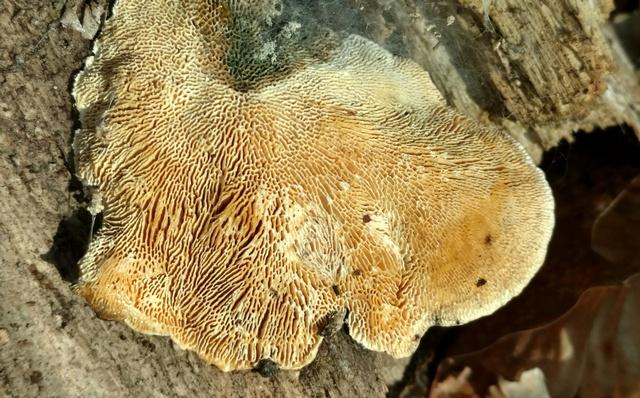Non-edible Mushroom: (67, 0, 557, 376)
